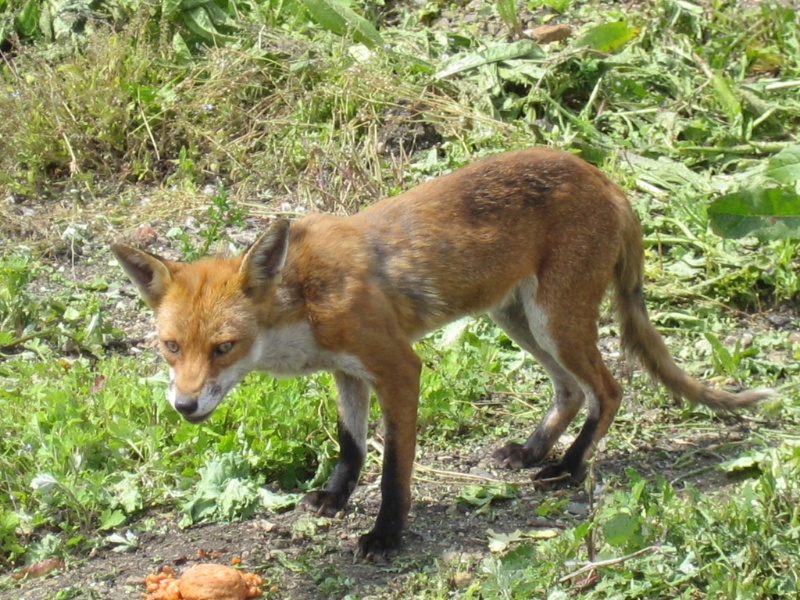fox: (111, 144, 775, 563)
